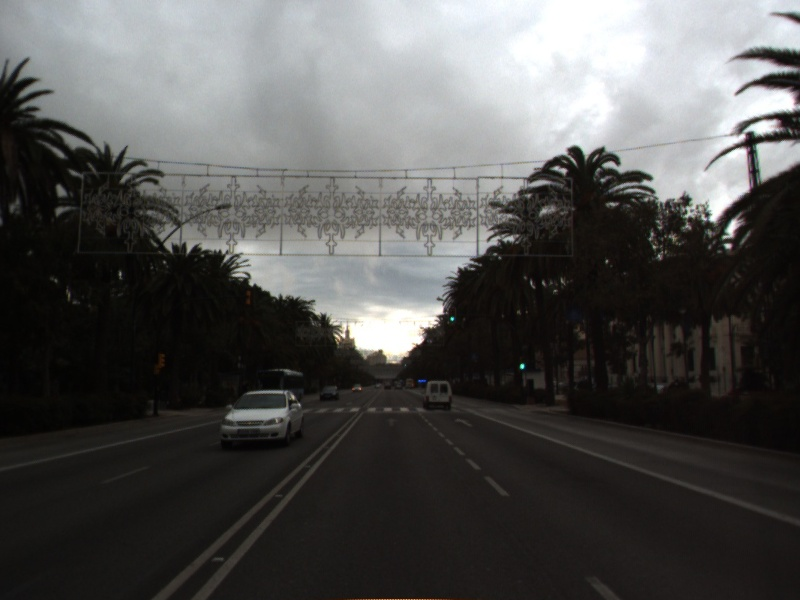STRAIGHT: (452, 415, 475, 429), (382, 415, 401, 429)
